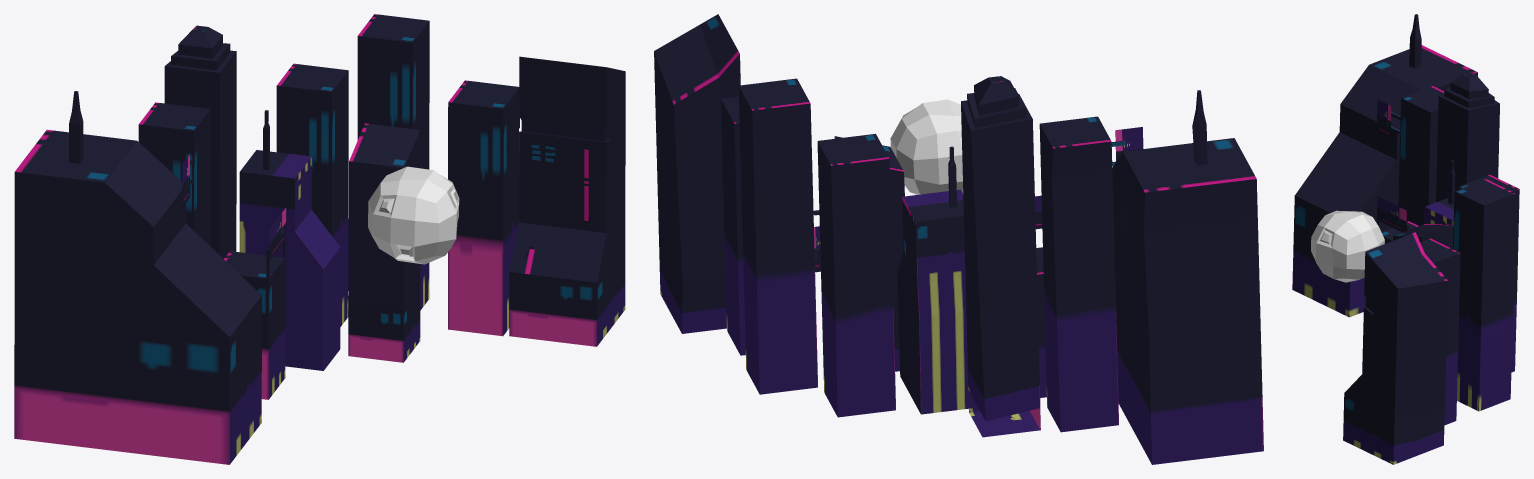
File: dios.glb
The picture shows the model from 3 angles, left to right: view 1: azimuth 30°, elevation 25°; view 2: azimuth 150°, elevation 25°; view 3: azimuth 270°, elevation 25°; orthographic projection. The views are drawn at different scales.
Visible parts, largest first — view 1: Cube, Cube.002; view 2: Cube, Cube.002; view 3: Cube, Cube.002.
Boxes of the visible parts, x1,y1,x2,y2 form: Cube: [14, 14, 625, 464]; Cube.002: [368, 166, 459, 264]; Cube: [654, 14, 1263, 464]; Cube.002: [890, 99, 963, 194]; Cube: [1292, 14, 1519, 464]; Cube.002: [1311, 210, 1384, 282].
Size of the model in its own units: 23.98 by 12.91 by 10.45.
3 materials, 1 textured.
